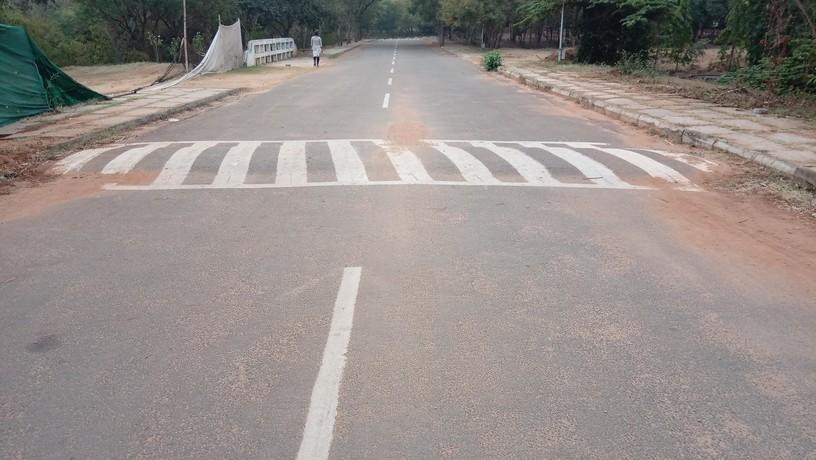speedbreaker: (32, 130, 788, 199)
